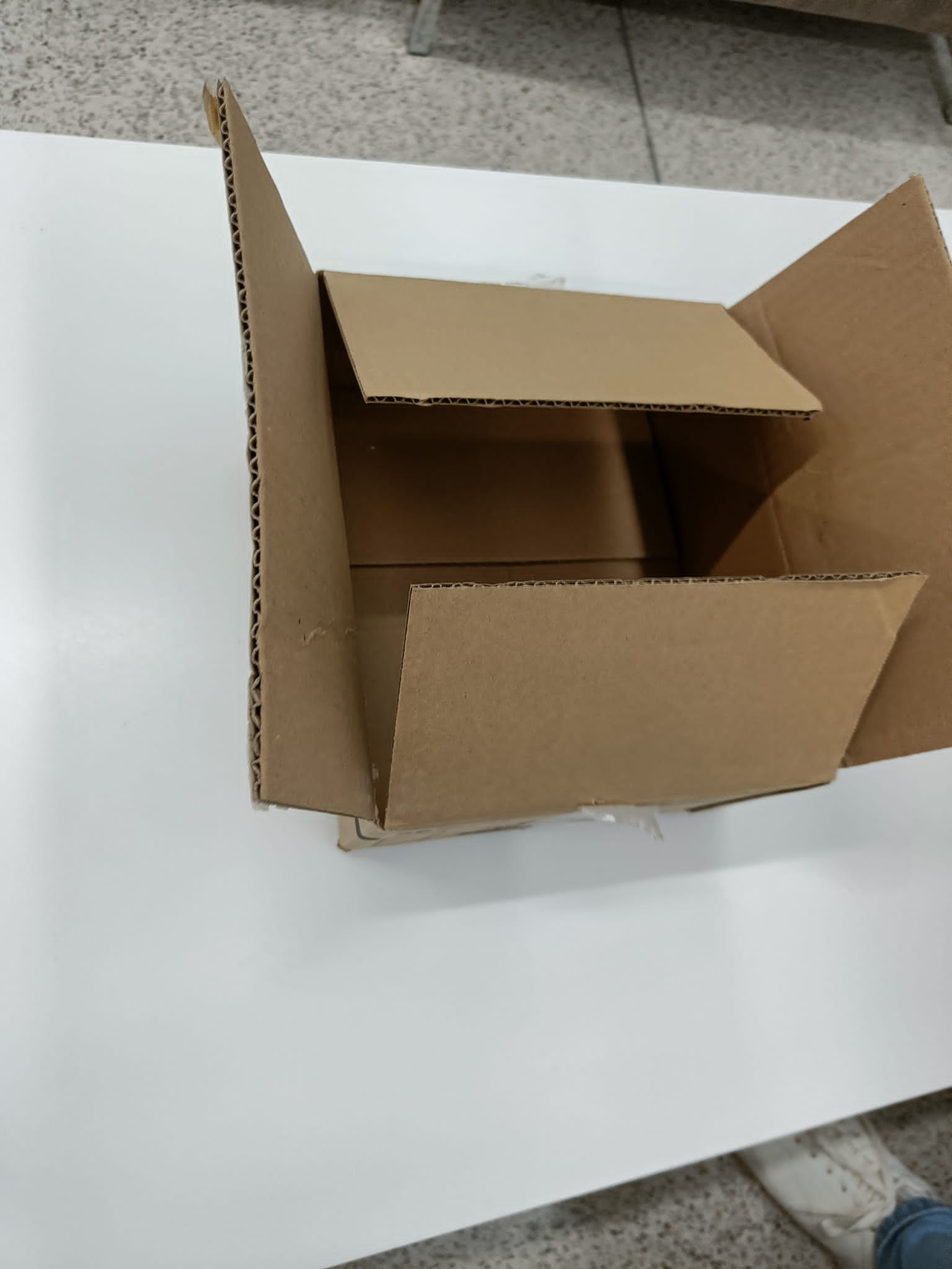box: (214, 78, 952, 852)
crushed: (214, 76, 952, 831)
